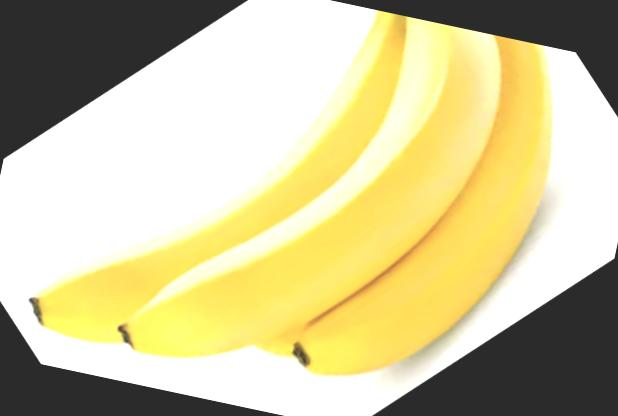Banana Ripe: (24, 0, 582, 416)
